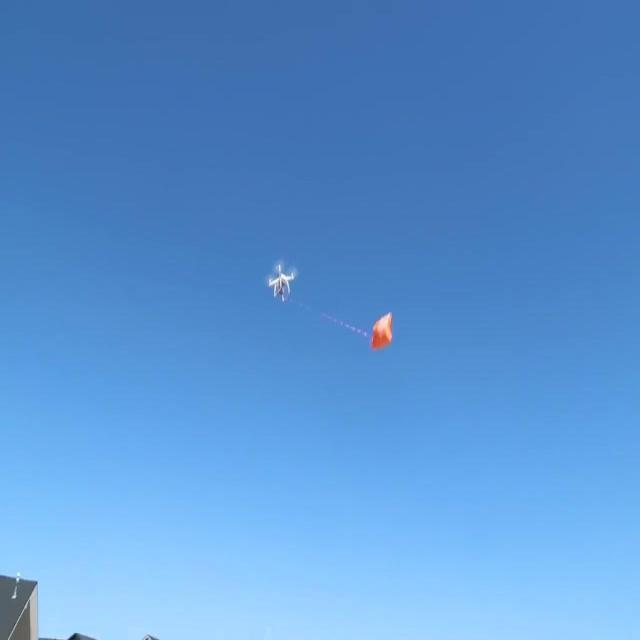drone: (266, 261, 297, 305)
